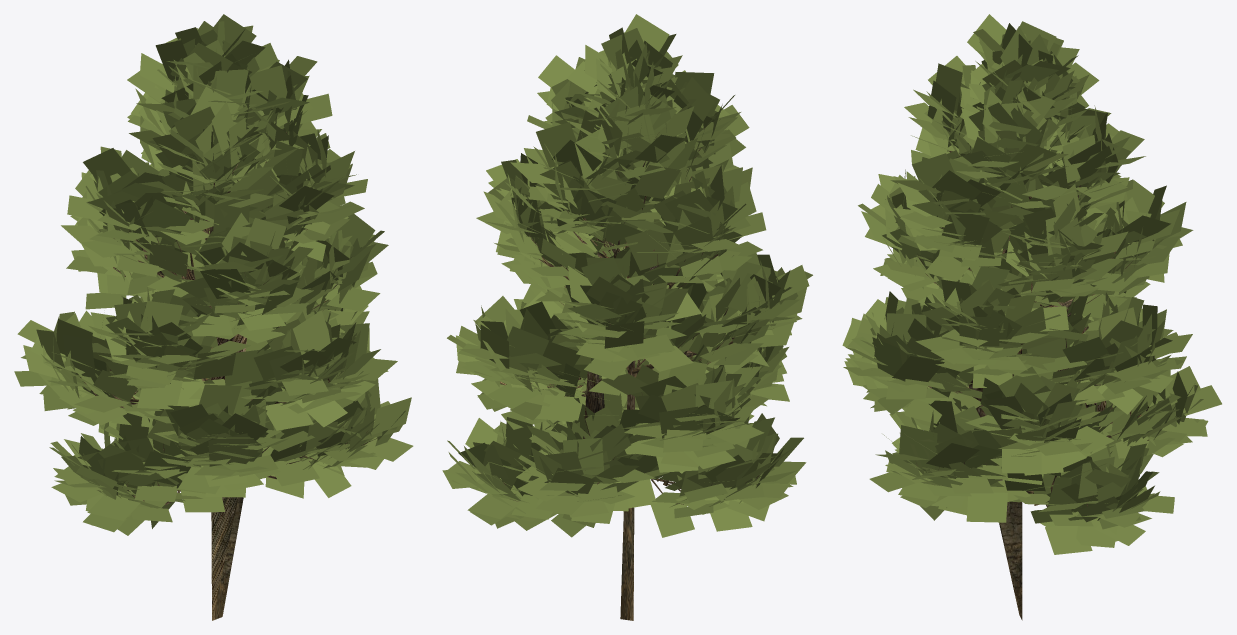
The model's file is tree_lowpoly.gltf.
The picture shows the model from 3 angles, left to right: view 1: azimuth 30°, elevation 25°; view 2: azimuth 150°, elevation 25°; view 3: azimuth 270°, elevation 25°; orthographic projection. The views are drawn at different scales.
Visible parts, largest first — view 1: Low Poly Tree 1 Trunk; view 2: Low Poly Tree 1 Trunk; view 3: Low Poly Tree 1 Trunk.
Part boxes in pixels (left/top/right/bottom): Low Poly Tree 1 Trunk: left=14, top=14, right=413, bottom=620; Low Poly Tree 1 Trunk: left=442, top=14, right=812, bottom=620; Low Poly Tree 1 Trunk: left=842, top=14, right=1221, bottom=620.
Size of the model in its own units: 3.48 by 6 by 3.47.
2 materials, 2 textured.
